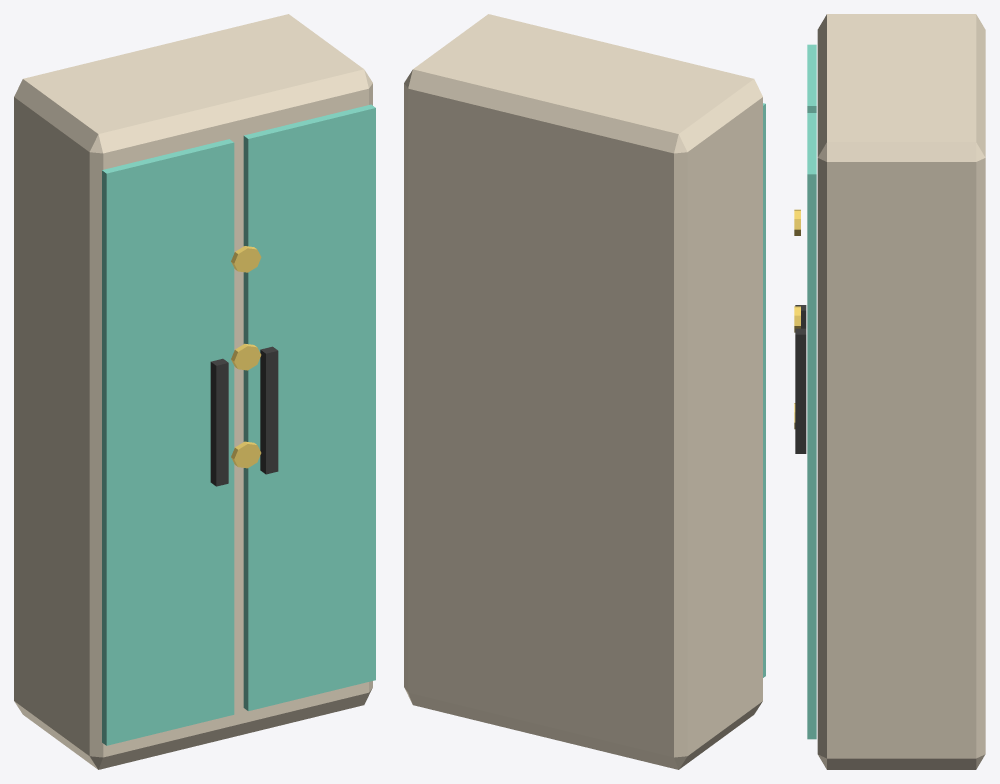
3 renders of one model, left to right at view 1: azimuth 30°, elevation 25°; view 2: azimuth 150°, elevation 25°; view 3: azimuth 270°, elevation 25°, orthographic.
Visible parts, largest first — view 1: Equipment case, Door, Door.001, Handle, Handle.001, Indicator, Indicator.001, Indicator.002; view 2: Equipment case, Door; view 3: Equipment case, Door.001, Handle.001, Door.
Boxes of the visible parts, x1,y1,x2,y2 form: Equipment case: (14, 14, 372, 769); Door: (102, 139, 234, 745); Door.001: (243, 104, 375, 711); Handle: (210, 358, 228, 486); Handle.001: (260, 346, 278, 474); Indicator: (231, 441, 261, 468); Indicator.001: (231, 343, 261, 370); Indicator.002: (231, 246, 261, 272); Equipment case: (404, 14, 762, 769); Door: (763, 103, 765, 677); Equipment case: (817, 14, 985, 769); Door.001: (807, 113, 816, 739); Handle.001: (795, 328, 806, 453); Door: (807, 44, 816, 112).
Bounding box in the file's own units: 0.728 × 1.56 × 0.4302.
Materials: 1 (1 with a texture image).
